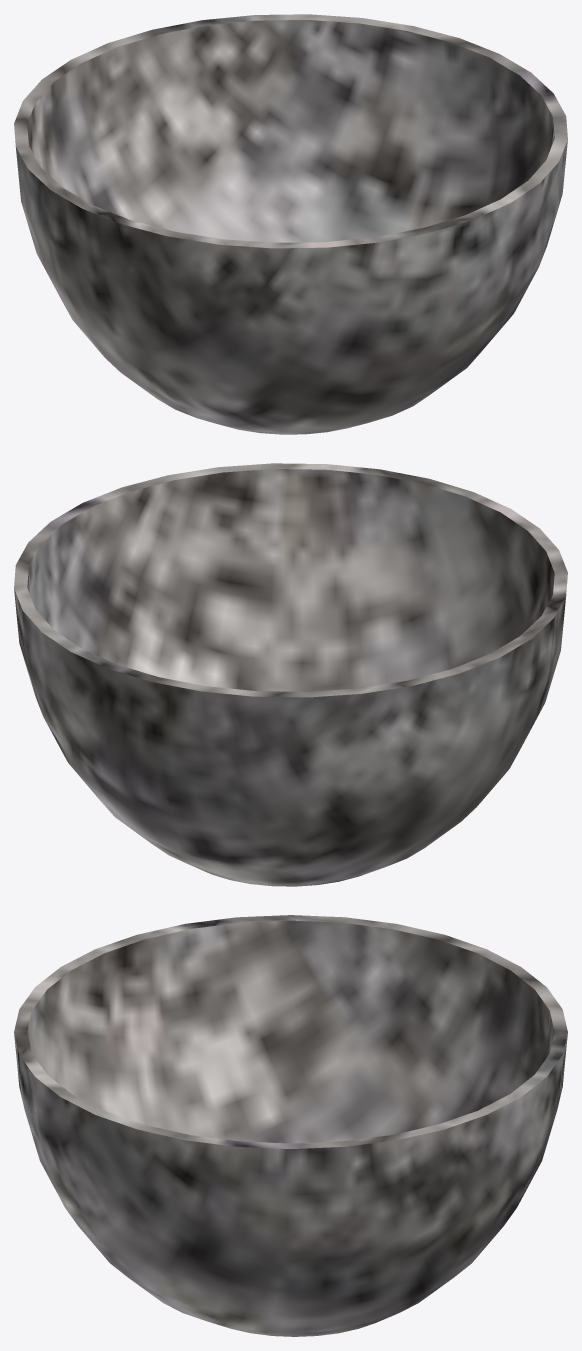
Rendered from mortar.fbx.
3 views of the same model, one above another, from view 1: azimuth 30°, elevation 25°; view 2: azimuth 150°, elevation 25°; view 3: azimuth 270°, elevation 25° (orthographic).
Parts seen in each view (by area): view 1: Mortar; view 2: Mortar; view 3: Mortar.
Part boxes in pixels (x1,y1,x2,y2): Mortar: (14, 14, 567, 434); Mortar: (14, 463, 567, 886); Mortar: (14, 915, 567, 1336).
Size of the model in its own units: 30.76 by 15.66 by 30.76.
